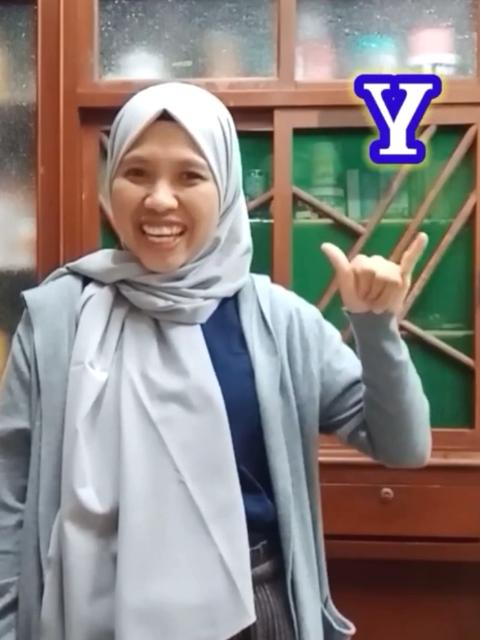Y: (318, 230, 432, 316)
